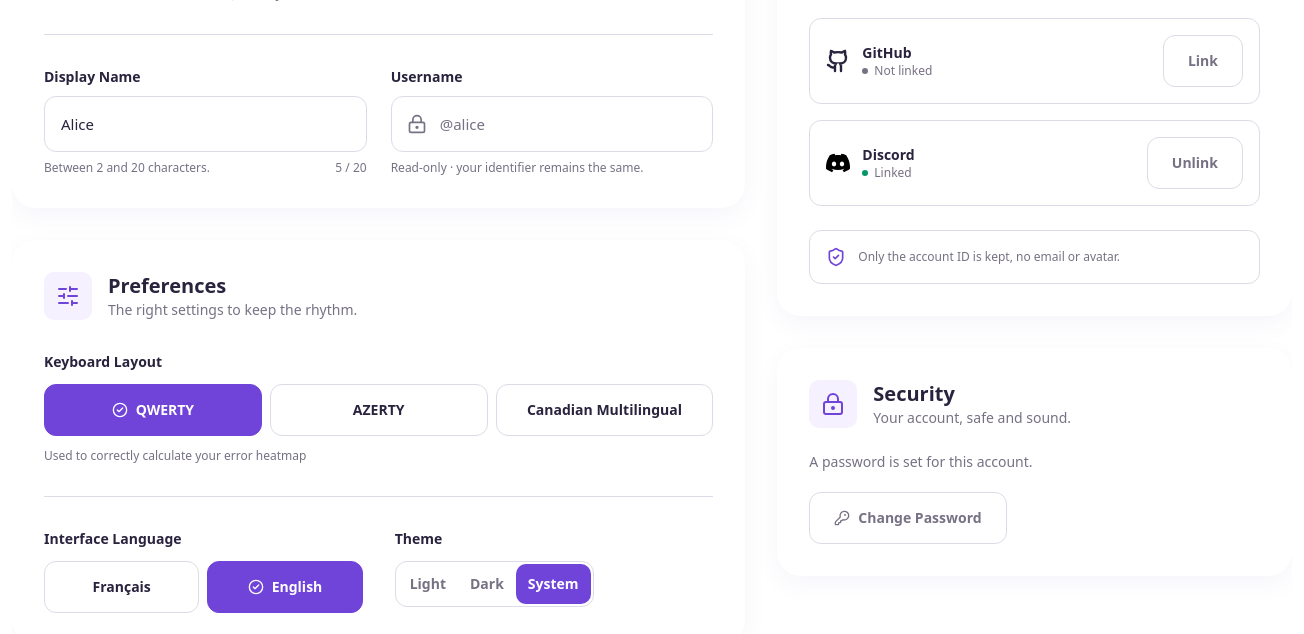
ProfileForm (en) › « Annuler » rétablit les valeurs d'origine
Replace the text in the field labelled "Display Name" with "Autre" at (205,124), box [44,96,367,152]
(page scrolled)
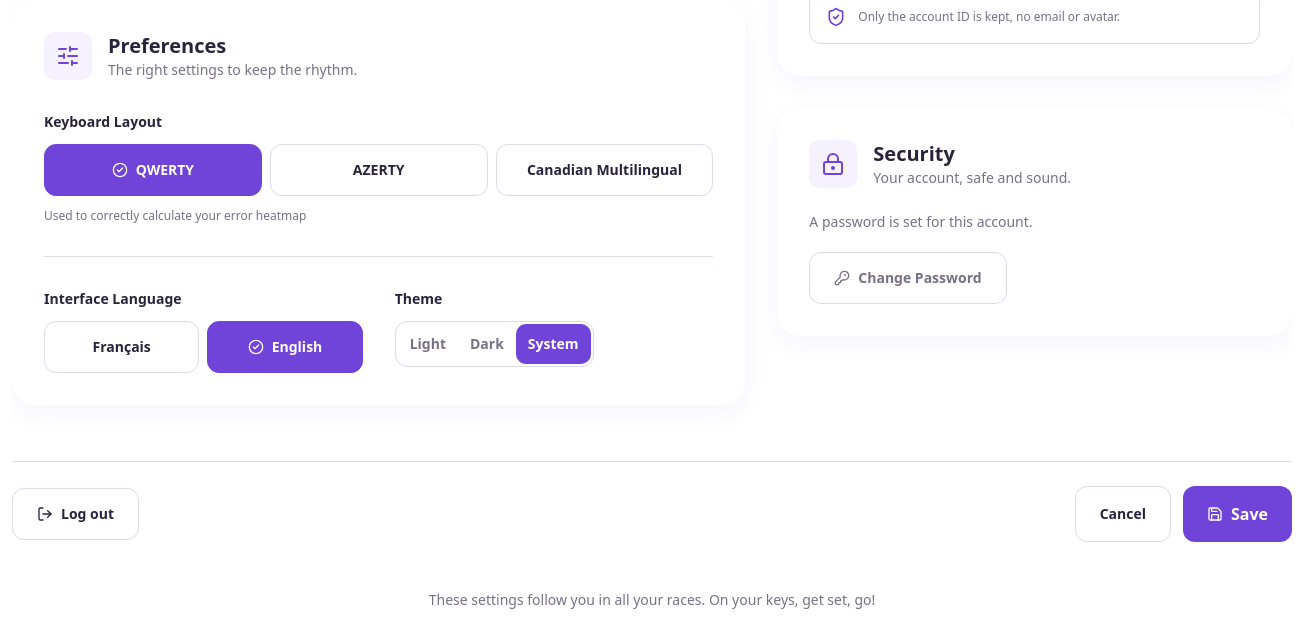
Click the button "Cancel" at (1123,514), box [1075,486,1171,542]
(page scrolled)
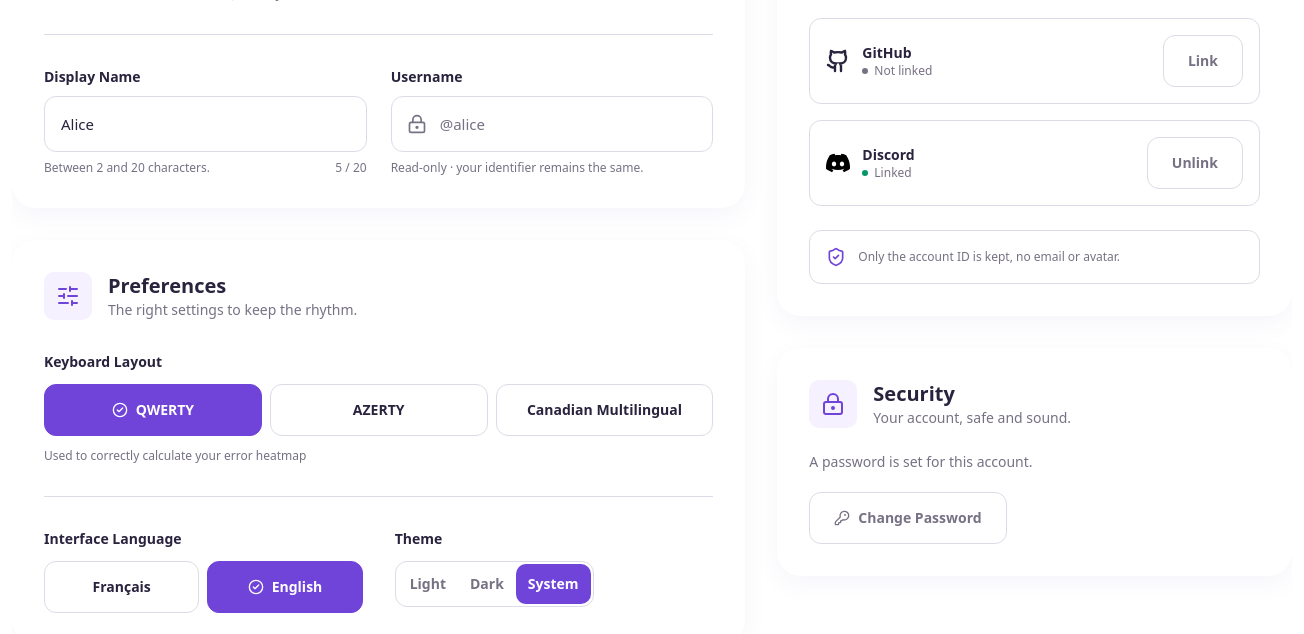
Expected: the field labelled "Display Name" holds "Alice", [44,96,367,152]
